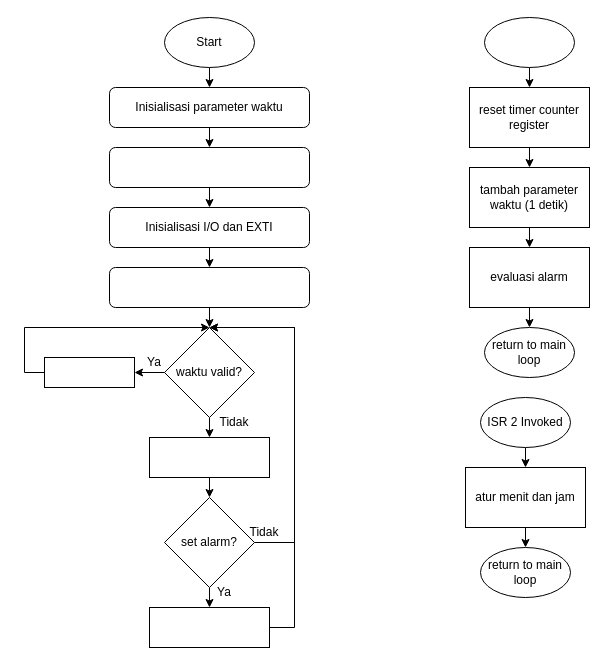
The diagram is 607 pixels wide and 665 high, and some of its shapes have lost their labels. Each missing label, with the centre of its shape:
atur alarm: the point at 209,627
Inisialisasi interface: the point at 209,287
Inisialisasi timer control register: the point at 209,167
ISR Invoked: the point at 529,42
set waktu: the point at 89,372
tampilkan waktu: the point at 209,457
